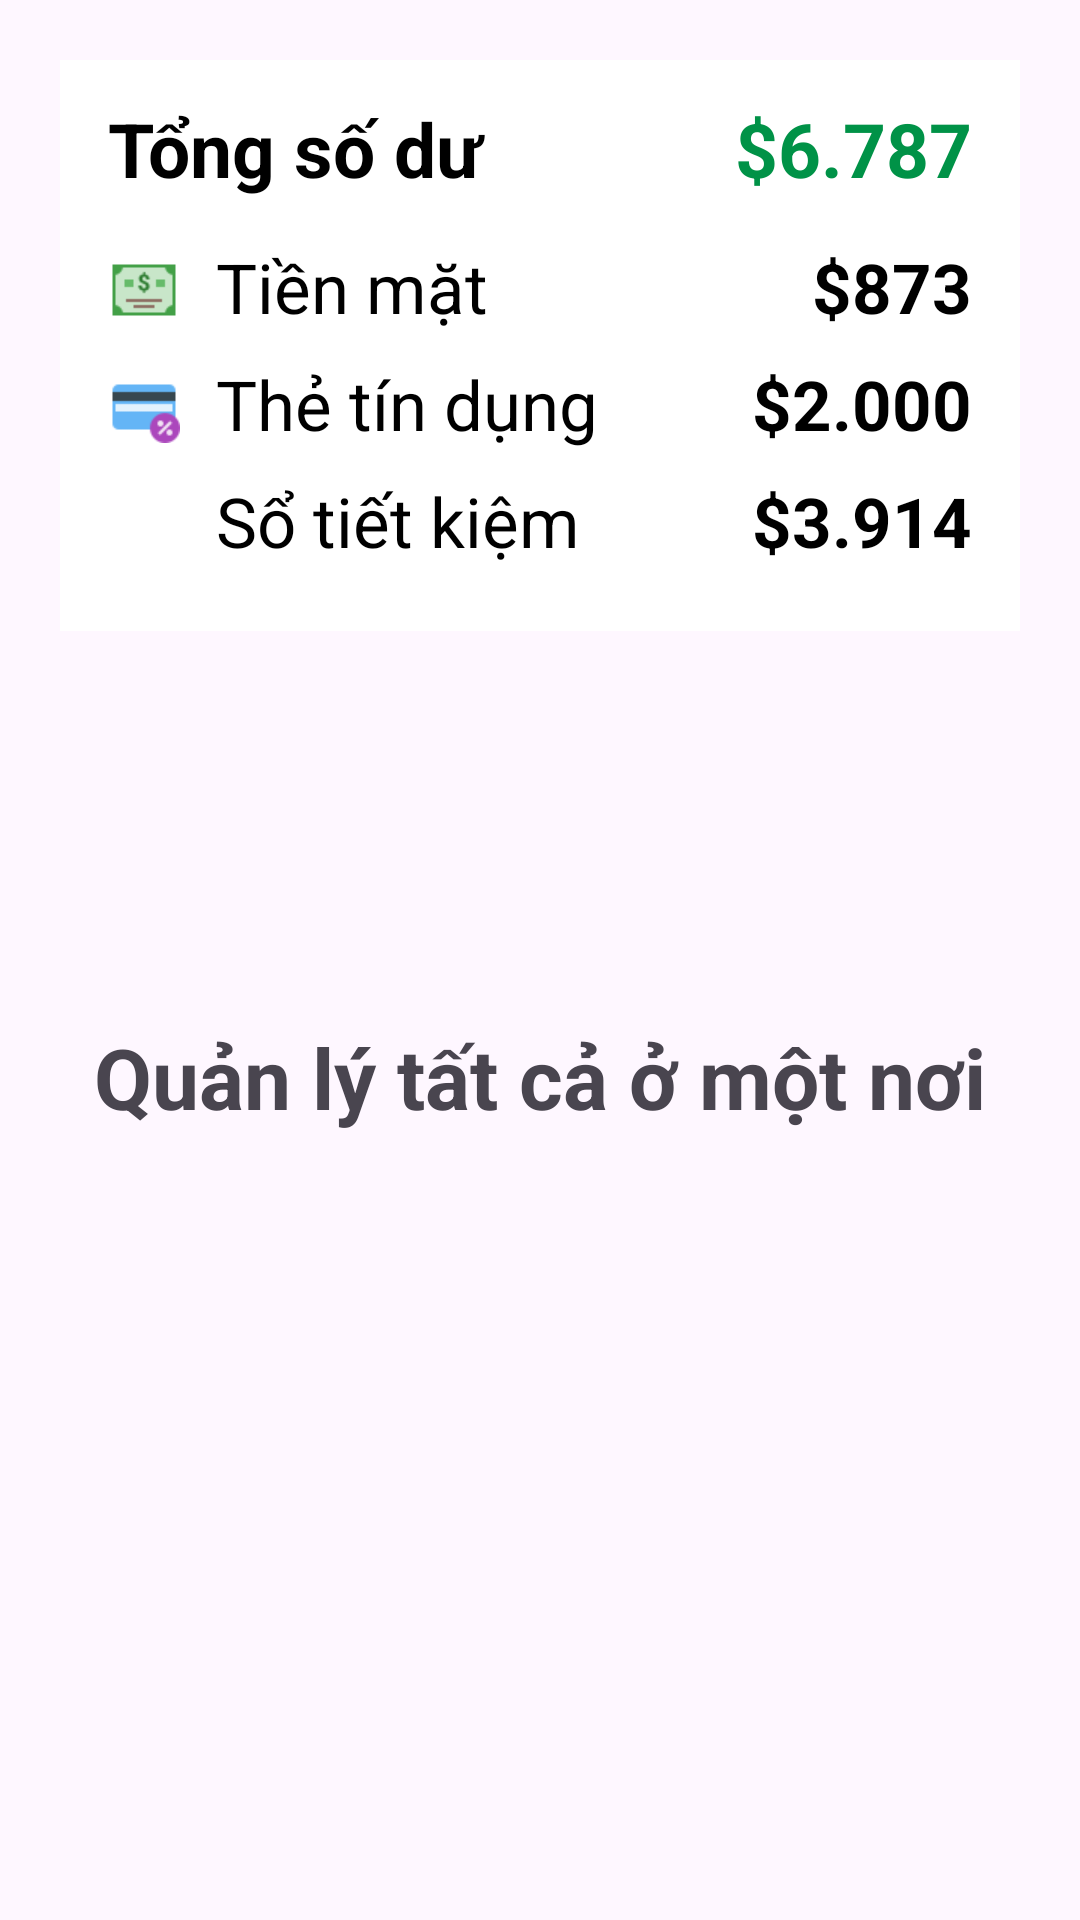

Where icons sit on this 1080x1920 app screen, as box(x1, y1, x2, y2):
cash: box(112, 264, 176, 316)
creditcard: box(112, 384, 180, 443)
